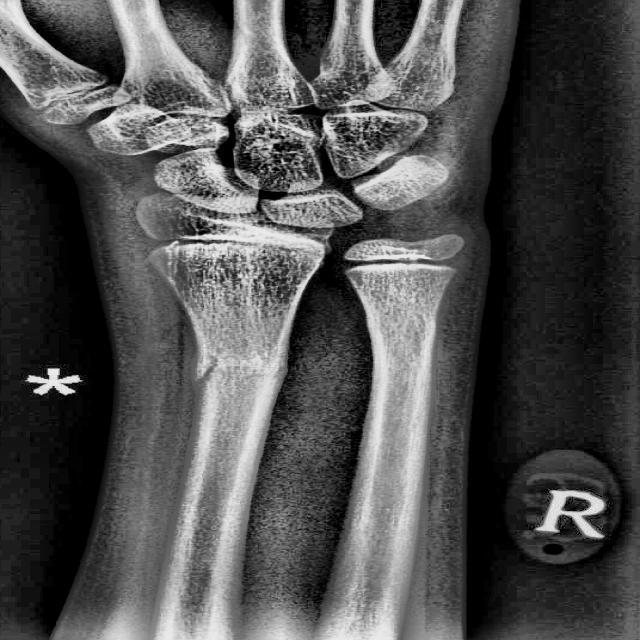fracture: (186, 344, 226, 392), (163, 240, 190, 280)
